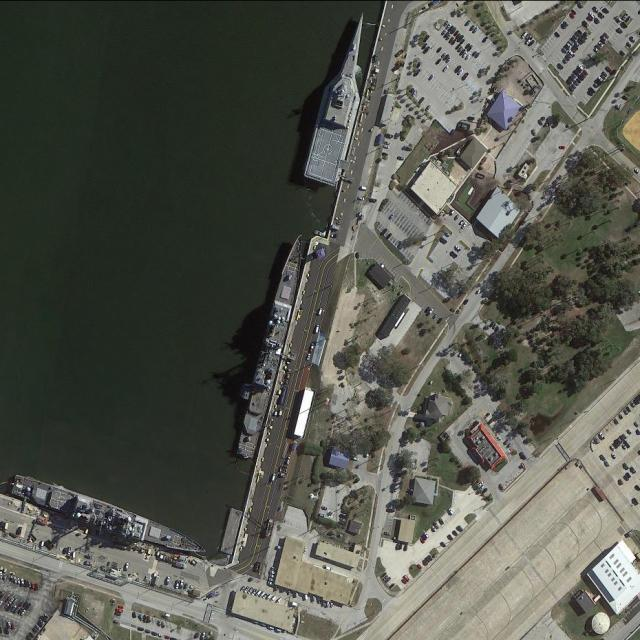Cruiser: (6, 469, 211, 562), (236, 228, 309, 460)
Frigate: (303, 10, 381, 184)
